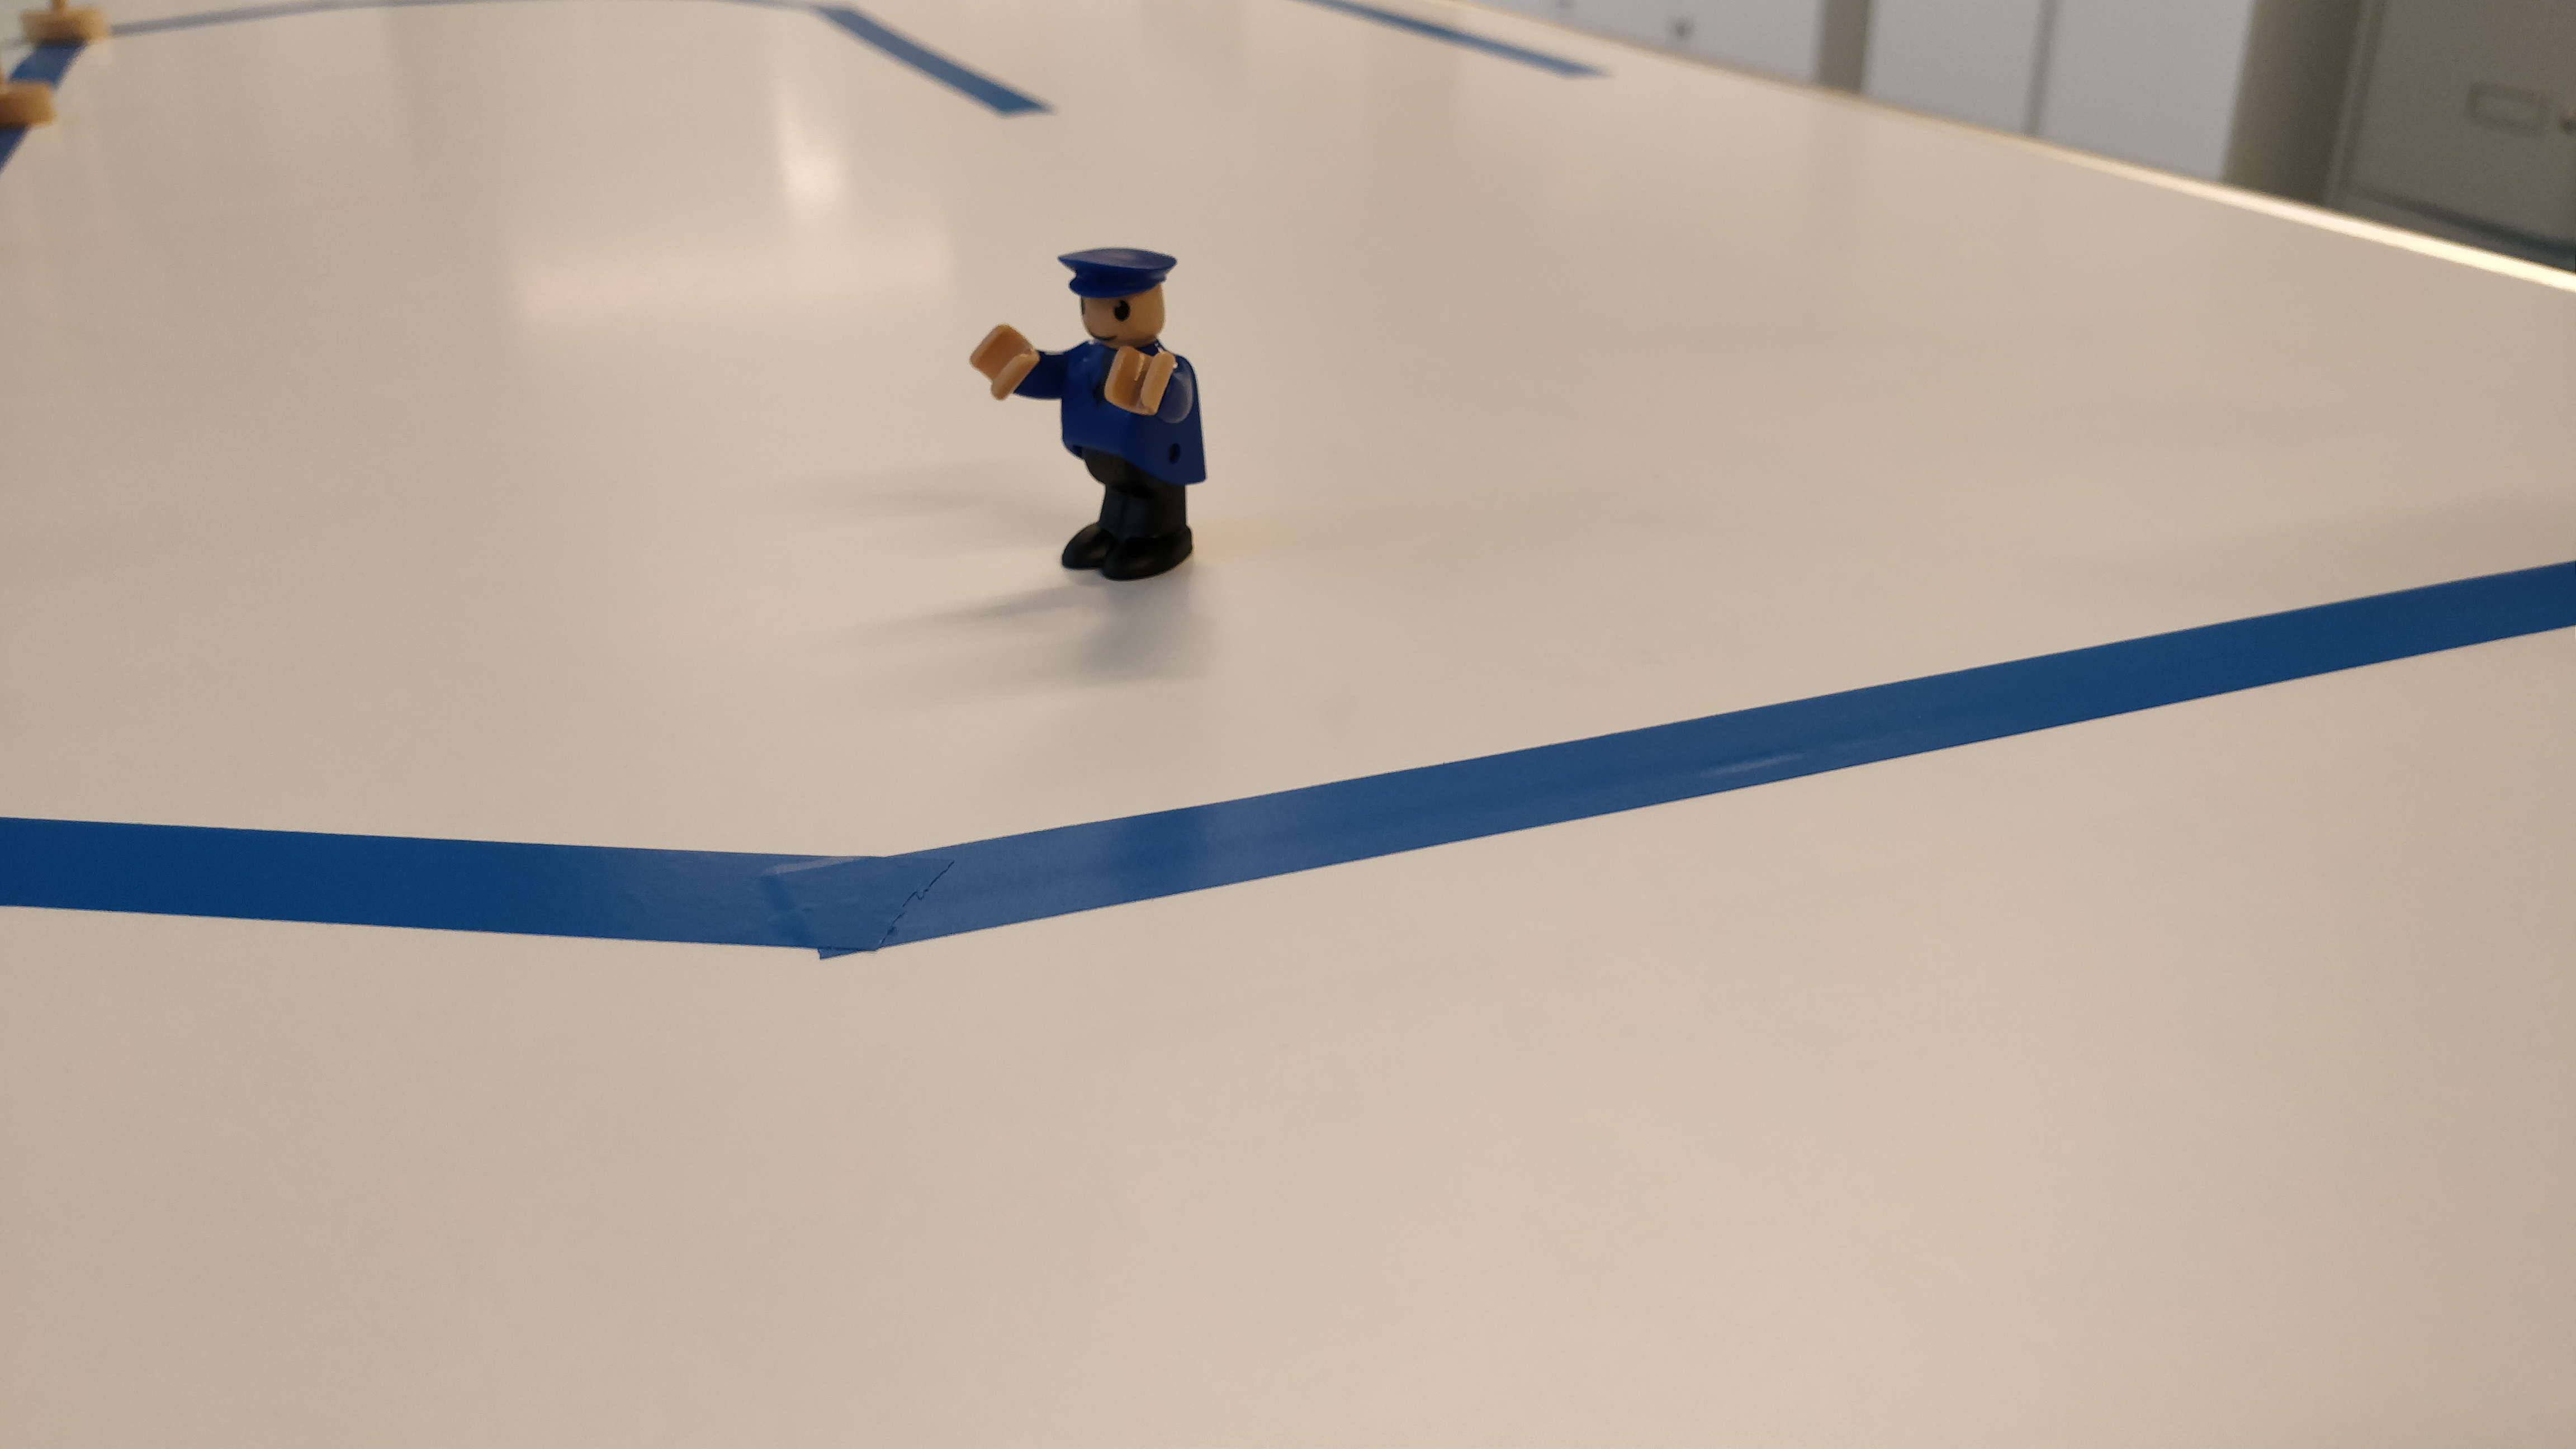Person: (965, 243, 1226, 588)
